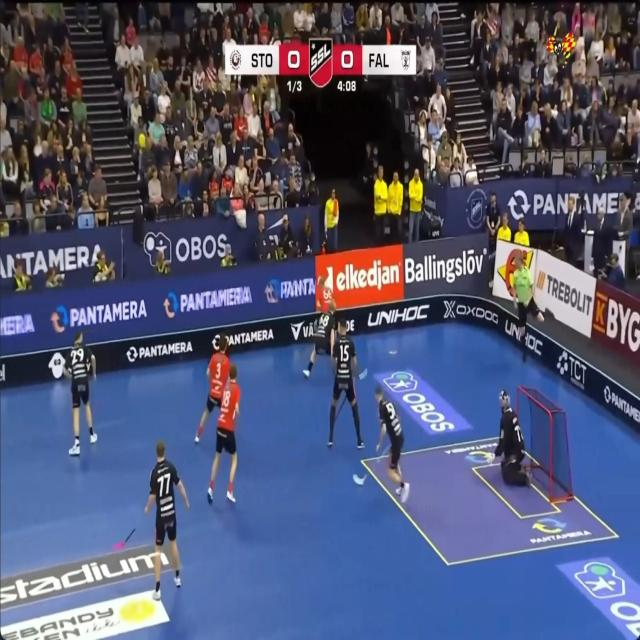player: (145, 441, 189, 599), (328, 319, 364, 447), (207, 363, 240, 502), (64, 333, 97, 455), (375, 387, 409, 502), (490, 390, 530, 484), (195, 334, 229, 443), (512, 252, 544, 360), (303, 301, 336, 377), (317, 276, 333, 311)
stick: (112, 526, 136, 550), (375, 444, 390, 463), (352, 472, 369, 485), (336, 396, 346, 418), (358, 368, 367, 379)
